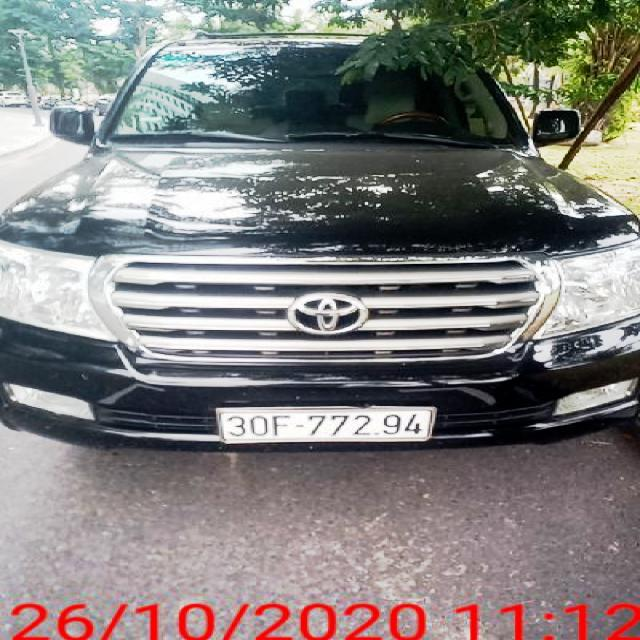license_plate: (221, 409, 432, 444)
